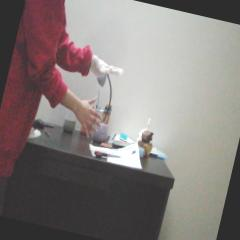gloved: (88, 54, 126, 80)
not-gloved: (70, 94, 108, 140)
